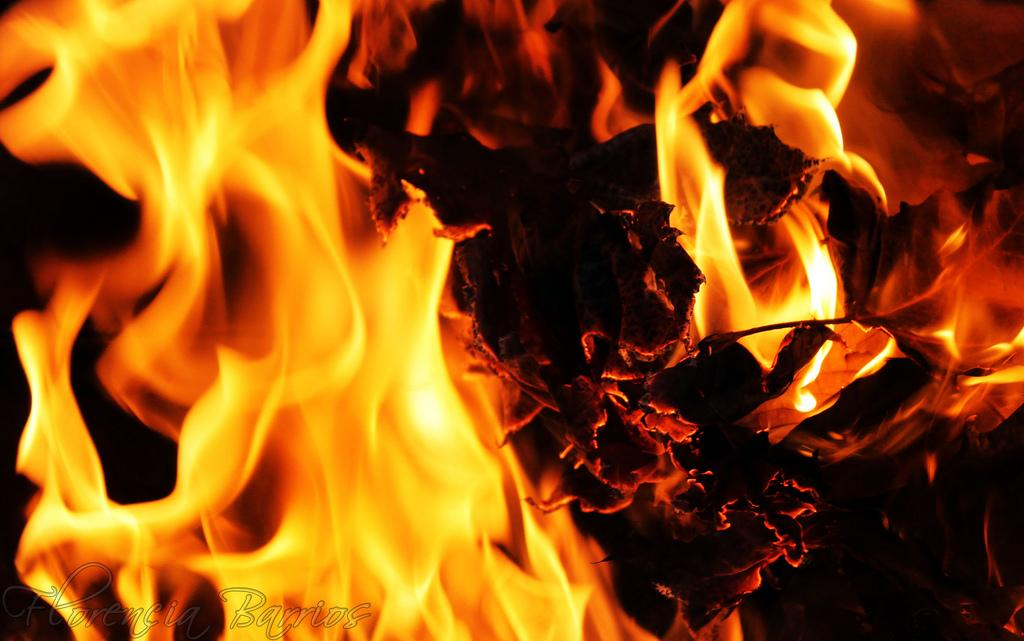fire: (142, 205, 475, 638), (15, 2, 358, 178), (688, 0, 875, 143)
